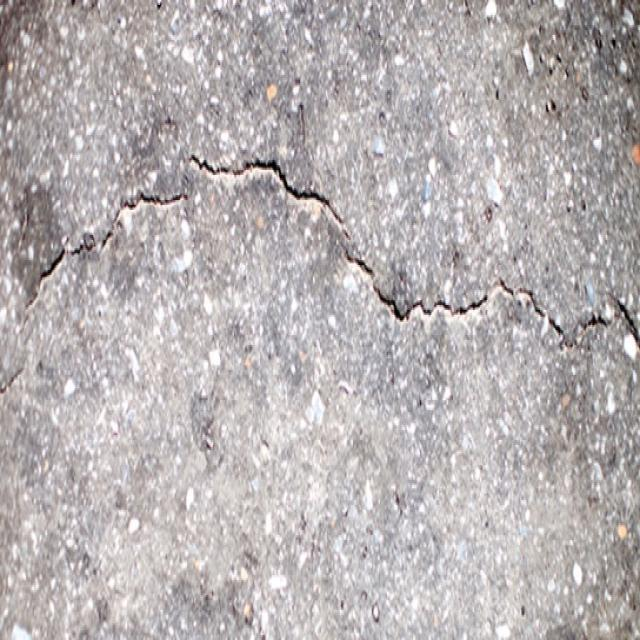Diagonal: (195, 150, 405, 322), (0, 149, 187, 316)
Transverse: (420, 278, 640, 369)
